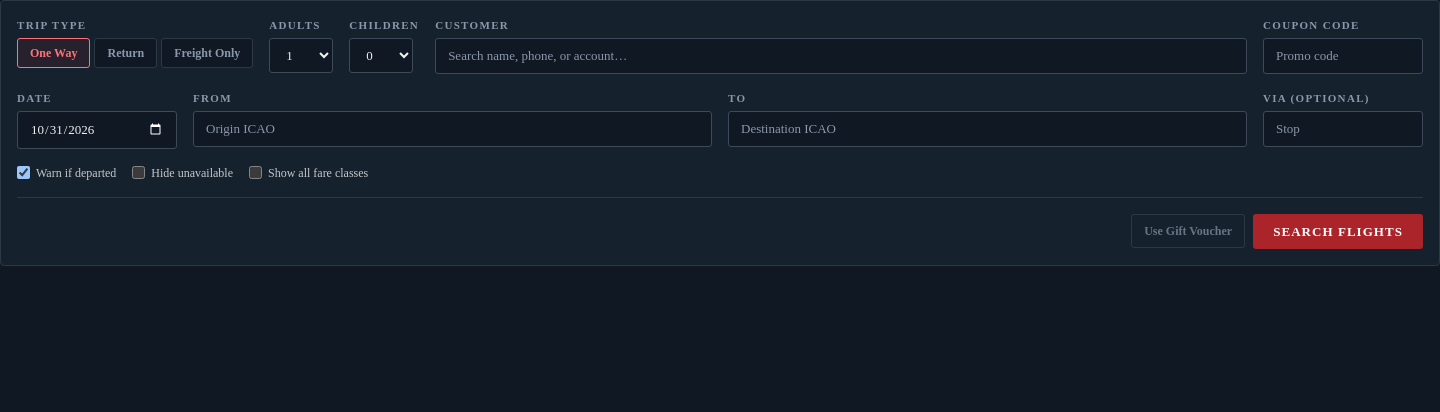
it: NewBookingSearchForm — airport identifiers › checks Via only when something is typed there
Type "PANC" into the field with placeholder "Origin ICAO".
click(452, 129); type("PANC")  # box [193,111,712,147]
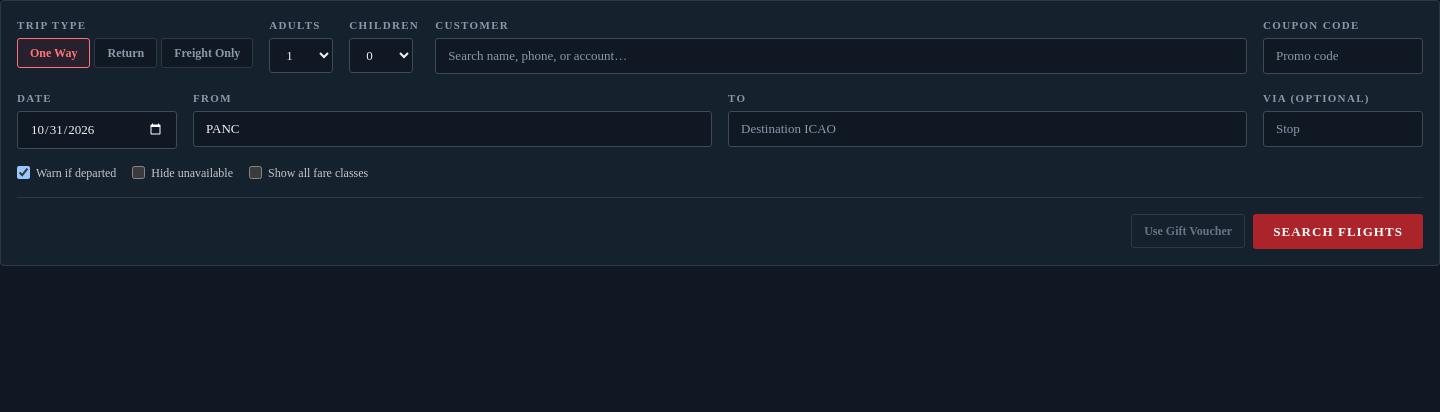
Type "PABE" into the field with placeholder "Destination ICAO".
click(988, 129); type("PABE")  # box [728,111,1247,147]
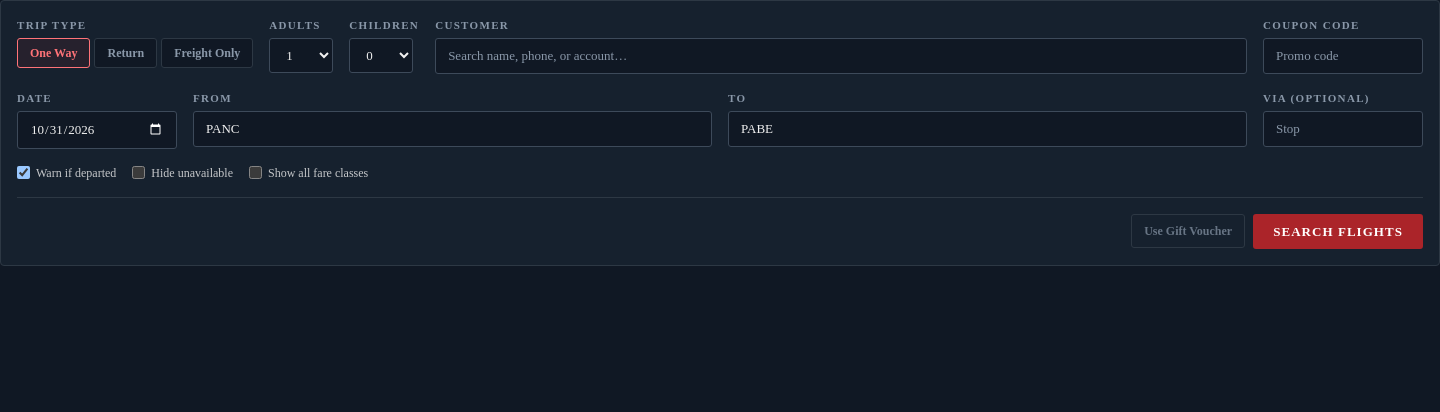
Click the button "Search Flights".
click(1338, 231)  # box [1253,214,1423,249]
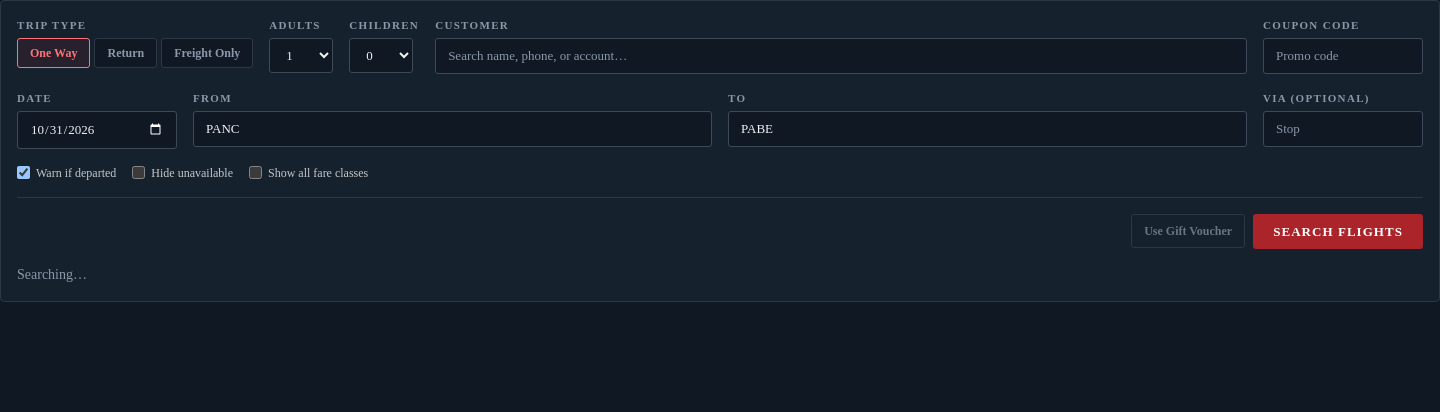
Expected: the text "via should be an airport code" is not shown
Type "PA-C" into the field with placeholder "Stop".
click(1343, 129); type("PA-C")  # box [1263,111,1423,147]
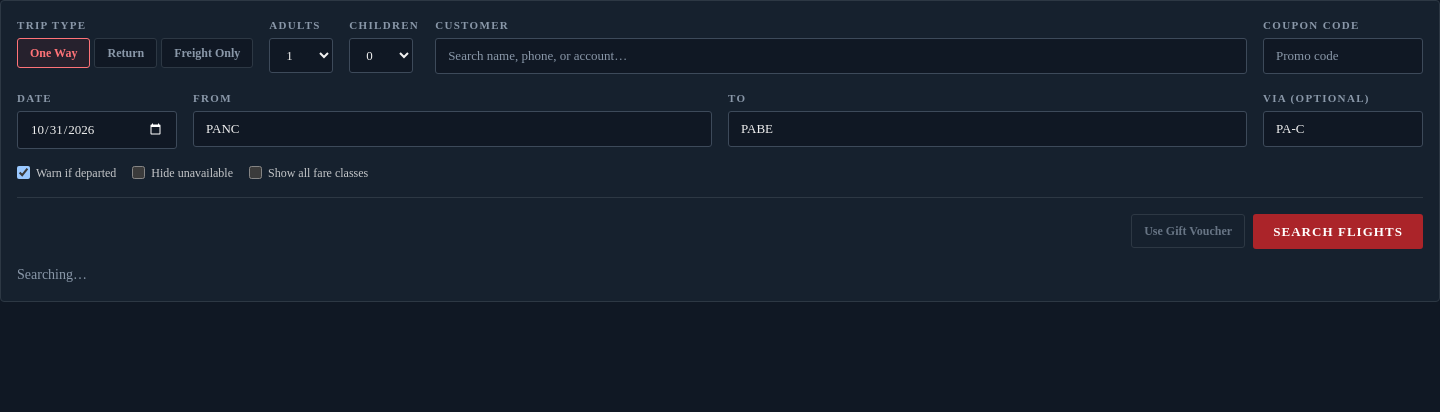
Click the button "Search Flights".
click(1338, 231)  # box [1253,214,1423,249]
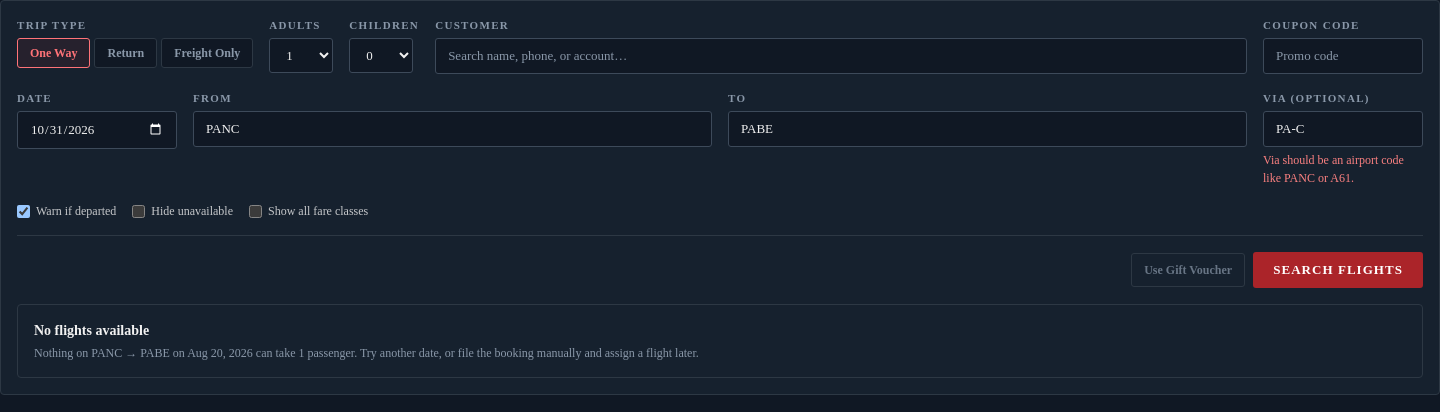
Expected: the text "Via should be an airport code like PANC or A61." is shown, [1263,152,1423,188]
